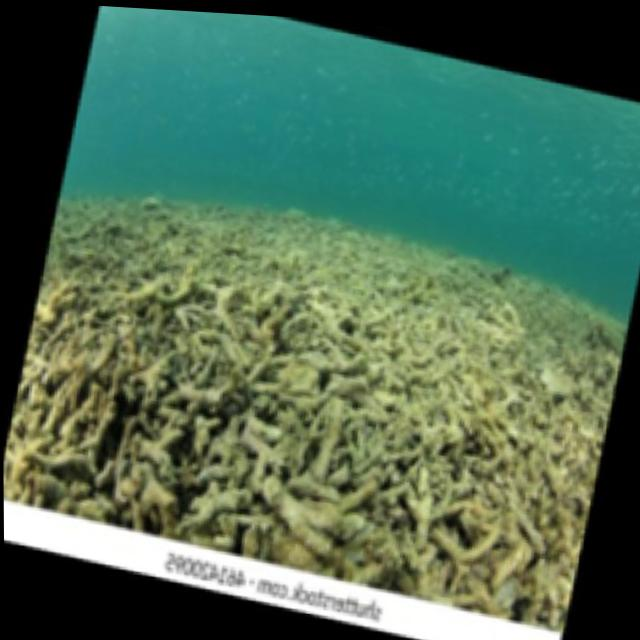Dead Coral: (247, 268, 584, 599), (7, 216, 282, 530)
